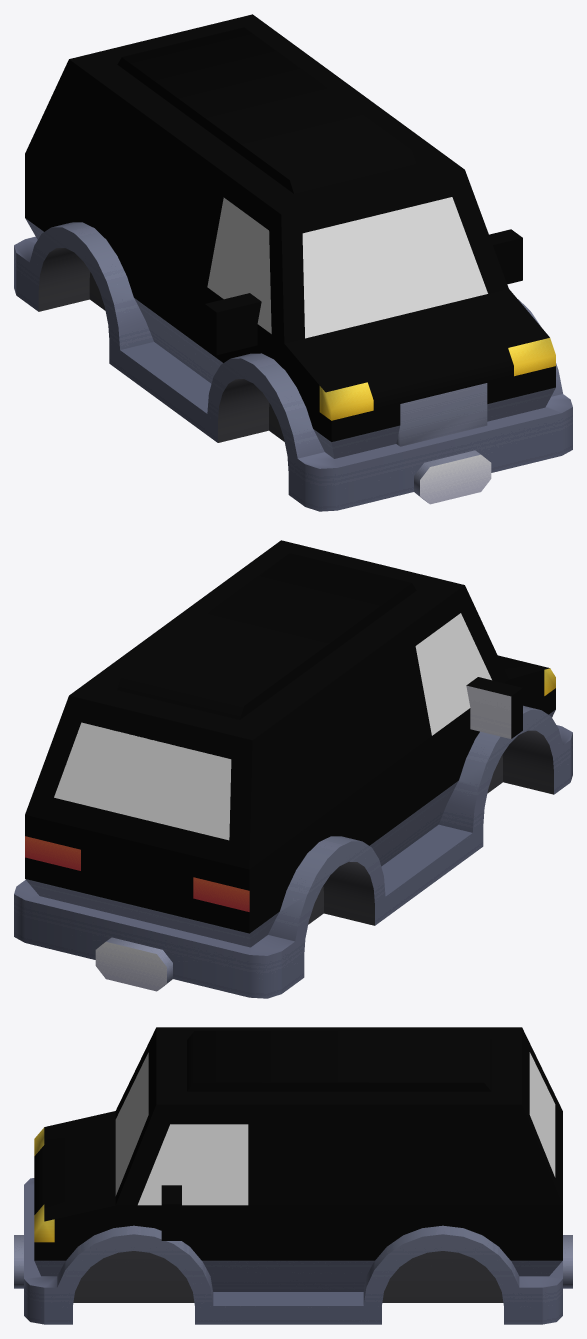
Rendered from vanBlackbody.glb.
3 renders of one model, top to bottom at view 1: azimuth 30°, elevation 25°; view 2: azimuth 150°, elevation 25°; view 3: azimuth 270°, elevation 25°, orthographic. The views are drawn at different scales.
Parts seen in each view (by area): view 1: body, bodyFrontWindow, bodyRightWindow; view 2: body, bodyRearWindow, bodyRightWindow; view 3: body, bodyLeftWindow, bodyFrontWindow, bodyRearWindow.
Part boxes in pixels (x1,y1,x2,y2): body: (14, 14, 572, 511); bodyFrontWindow: (302, 197, 487, 338); bodyRightWindow: (207, 197, 271, 333); body: (14, 540, 572, 998); bodyRearWindow: (54, 722, 231, 840); bodyRightWindow: (415, 613, 491, 735); body: (14, 1027, 572, 1324); bodyLeftWindow: (138, 1124, 248, 1205); bodyFrontWindow: (115, 1052, 148, 1195); bodyRearWindow: (529, 1052, 555, 1177).
Bounding box in the file's own units: 1.5 × 1.2 × 2.75.
2 materials, 1 textured.
